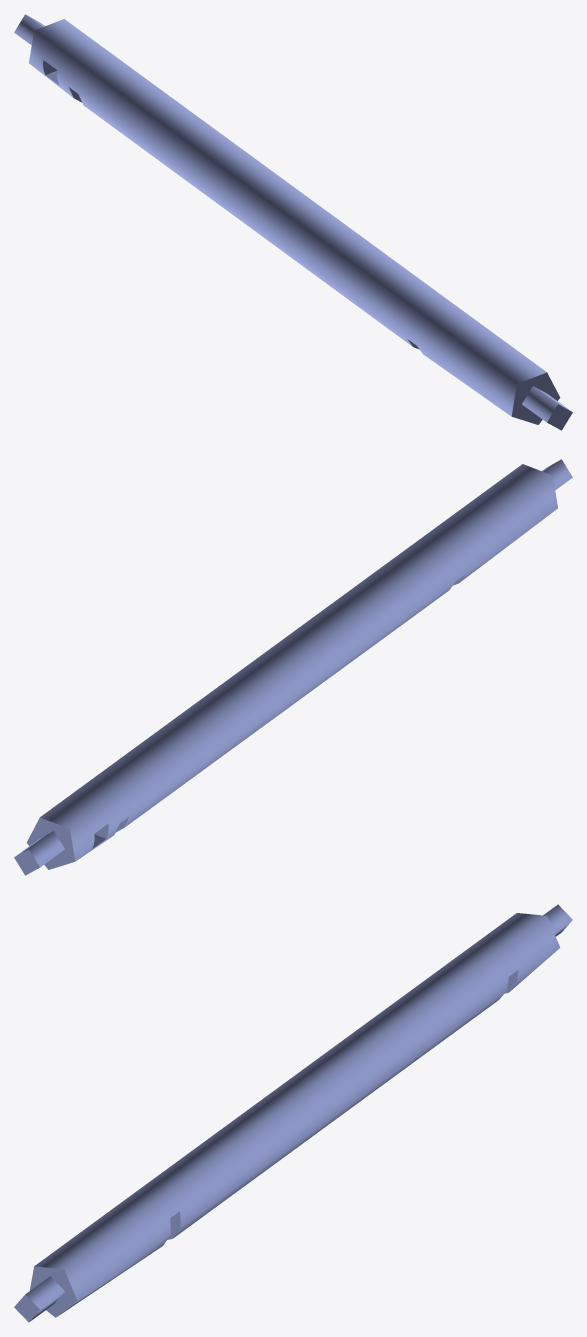
Rendered from Copie de Piece avec plan axe^Copie de Ass piece plan 2_Horloge Comtoise Verge - Sonnerie.obj.
The picture shows the model from 3 angles, top to bottom: view 1: azimuth 30°, elevation 25°; view 2: azimuth 150°, elevation 25°; view 3: azimuth 330°, elevation 25°; orthographic projection.
Visible parts, largest first — view 1: Face_1, Face_6, Face_14; view 2: Face_1, Face_7, Face_15; view 3: Face_1, Face_6, Face_14.
Part boxes in pixels (x1,y1,x2,y2): Face_1: (29,19,546,416); Face_6: (511,372,560,424); Face_14: (522,386,571,422); Face_1: (40,464,557,861); Face_7: (26,817,75,869); Face_15: (15,831,64,867); Face_1: (34,913,560,1316); Face_6: (30,1266,77,1317); Face_14: (25,1276,64,1321).
Bounding box in the file's own units: 0.00487 × 0.00461 × 0.0874.
